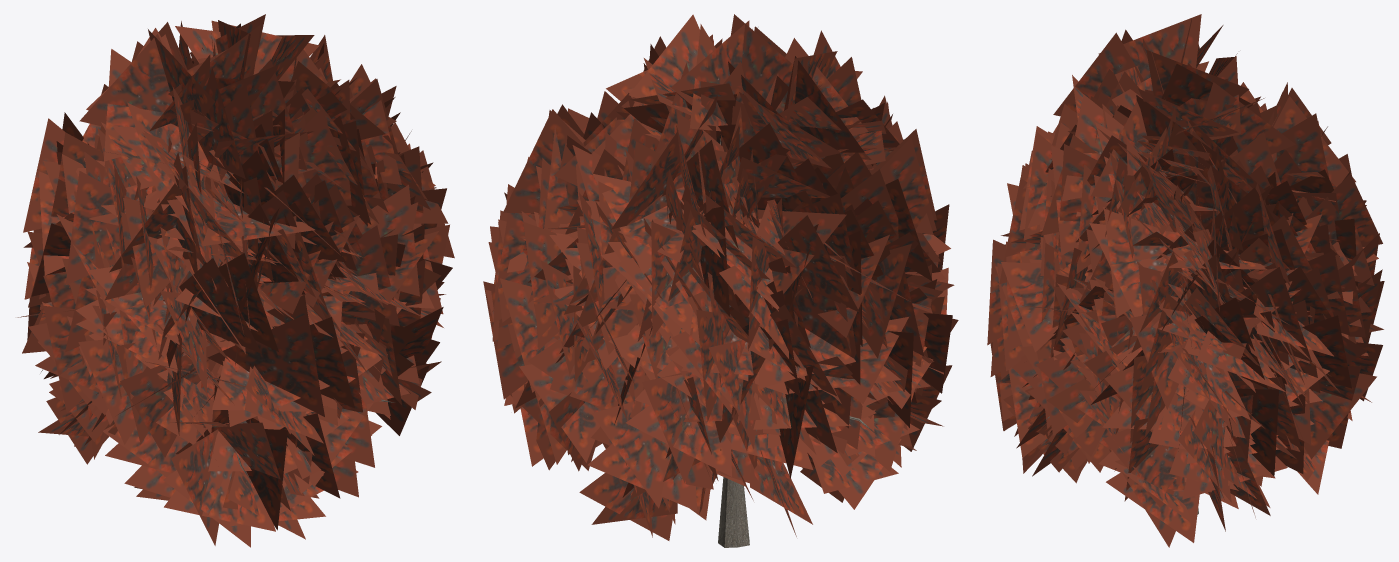
Rendered from Quercus_Alba_Autumn_Young.glb.
3 views of the same model, side by side, from view 1: azimuth 30°, elevation 25°; view 2: azimuth 150°, elevation 25°; view 3: azimuth 270°, elevation 25° (orthographic). The views are drawn at different scales.
Parts seen in each view (by area): view 1: Quercus_Alba_Autumn_Young__LOD3; view 2: Quercus_Alba_Autumn_Young__LOD3; view 3: Quercus_Alba_Autumn_Young__LOD3.
Boxes of the visible parts, x1,y1,x2,y2 form: Quercus_Alba_Autumn_Young__LOD3: (17,14,454,547); Quercus_Alba_Autumn_Young__LOD3: (483,14,958,547); Quercus_Alba_Autumn_Young__LOD3: (987,14,1384,547).
Bounding box in the file's own units: 11.47 × 13.57 × 10.39.
Materials: 2 (2 with a texture image).
